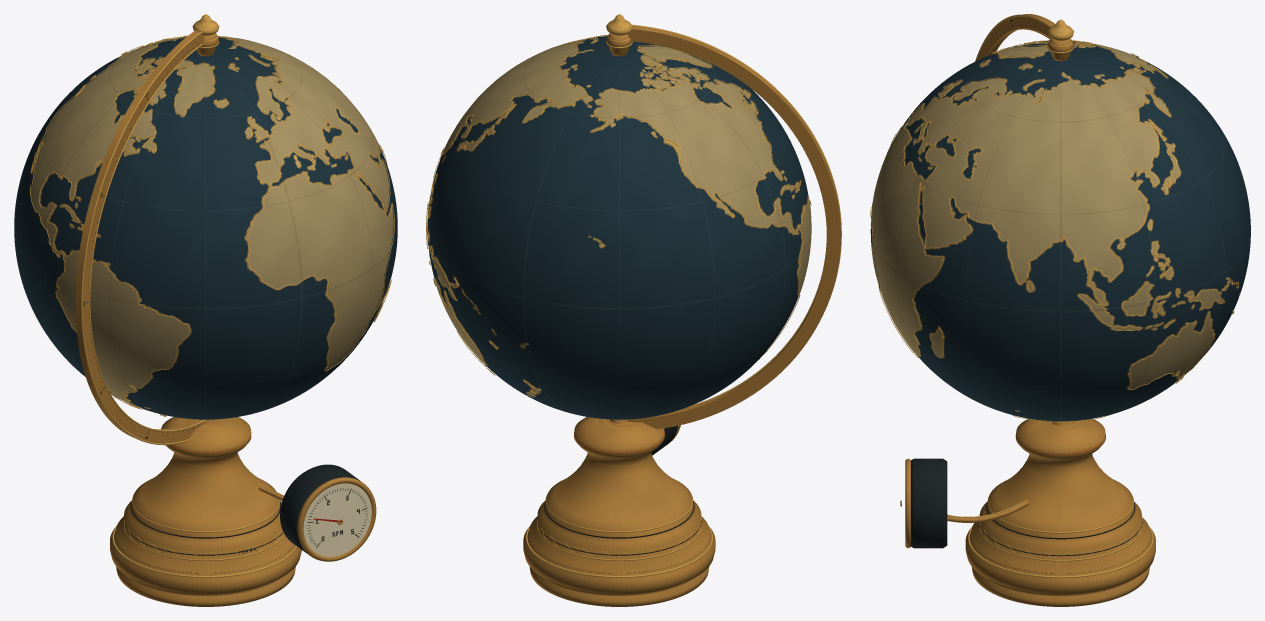
The model's file is MechanicalGlobe.fbx.
3 renders of one model, left to right at view 1: azimuth 30°, elevation 25°; view 2: azimuth 150°, elevation 25°; view 3: azimuth 270°, elevation 25°, orthographic.
Visible parts, largest first — view 1: Sphere_DarkMetalShell, Sphere_EngravedContinentSections_0, Pedestal_SteppedSculptedBrass, Sphere_EngravedContinentSections_7, Meridian_BroadGraduatedBrassBand, RPMGauge_PrintedDial, Sphere_RaisedCoastlineInlay_00, RPMGauge_DarkHousing, Sphere_RaisedCoastlineInlay_03, RPMGauge_BrassBezel, Sphere_EngravedContinentSections_6, Meridian_PolishedEdge_Outer (+2 smaller); view 2: Sphere_DarkMetalShell, Pedestal_SteppedSculptedBrass, Sphere_EngravedContinentSections_7, Meridian_BroadGraduatedBrassBand, Sphere_EngravedContinentSections_0, Sphere_RaisedCoastlineInlay_03, Sphere_EngravedContinentSections_6, Sphere_RaisedCoastlineInlay_00, Sphere_EngravedContinentSections_5, Meridian_PolishedEdge_Outer, Pedestal_PolishedMolding_01, Sphere_RaisedCoastlineInlay_02 (+1 smaller); view 3: Sphere_DarkMetalShell, Sphere_EngravedContinentSections_0, Pedestal_SteppedSculptedBrass, RPMGauge_DarkHousing, Sphere_RaisedCoastlineInlay_00, Sphere_EngravedContinentSections_5, Sphere_EngravedContinentSections_7, Meridian_BroadGraduatedBrassBand, Sphere_RaisedCoastlineInlay_03, Sphere_EngravedContinentSections_6, Sphere_RaisedCoastlineInlay_01, Sphere_EngravedContinentSections_2 (+3 smaller).
Part boxes in pixels (x1,y1,x2,y2): Sphere_DarkMetalShell: (14,39,397,419); Sphere_EngravedContinentSections_0: (76,36,393,408); Pedestal_SteppedSculptedBrass: (110,417,301,606); Sphere_EngravedContinentSections_7: (31,44,189,415); Meridian_BroadGraduatedBrassBand: (75,30,204,443); RPMGauge_PrintedDial: (303,483,371,556); Sphere_RaisedCoastlineInlay_00: (78,35,394,409); RPMGauge_DarkHousing: (280,464,359,553); Sphere_RaisedCoastlineInlay_03: (29,39,348,416); RPMGauge_BrassBezel: (297,477,376,561); Sphere_EngravedContinentSections_6: (75,40,300,229); Meridian_PolishedEdge_Outer: (81,31,202,445); Sphere_DarkMetalShell: (427,41,808,419); Pedestal_SteppedSculptedBrass: (523,417,715,606); Sphere_EngravedContinentSections_7: (427,72,811,347); Meridian_BroadGraduatedBrassBand: (627,26,840,429); Sphere_EngravedContinentSections_0: (429,36,782,345); Sphere_RaisedCoastlineInlay_03: (426,66,811,375); Sphere_EngravedContinentSections_6: (430,46,799,348); Sphere_RaisedCoastlineInlay_00: (427,35,700,397); Sphere_EngravedContinentSections_5: (435,55,808,393); Meridian_PolishedEdge_Outer: (632,24,841,309); Pedestal_PolishedMolding_01: (525,525,712,577); Sphere_RaisedCoastlineInlay_02: (426,45,800,349); Sphere_DarkMetalShell: (870,41,1250,421); Sphere_EngravedContinentSections_0: (871,43,1237,356); Pedestal_SteppedSculptedBrass: (965,418,1155,606); RPMGauge_DarkHousing: (911,458,947,548); Sphere_RaisedCoastlineInlay_00: (870,40,1180,358); Sphere_EngravedContinentSections_5: (913,41,1237,389); Sphere_EngravedContinentSections_7: (1019,41,1180,421); Meridian_BroadGraduatedBrassBand: (977,14,1055,60); Sphere_RaisedCoastlineInlay_03: (928,40,1183,422); Sphere_EngravedContinentSections_6: (914,46,1238,313); Sphere_RaisedCoastlineInlay_01: (979,59,1231,390); Sphere_EngravedContinentSections_2: (1015,41,1239,411).
Size of the model in its own units: 1.4 by 2.17 by 1.36.
9 materials, 9 textured.
